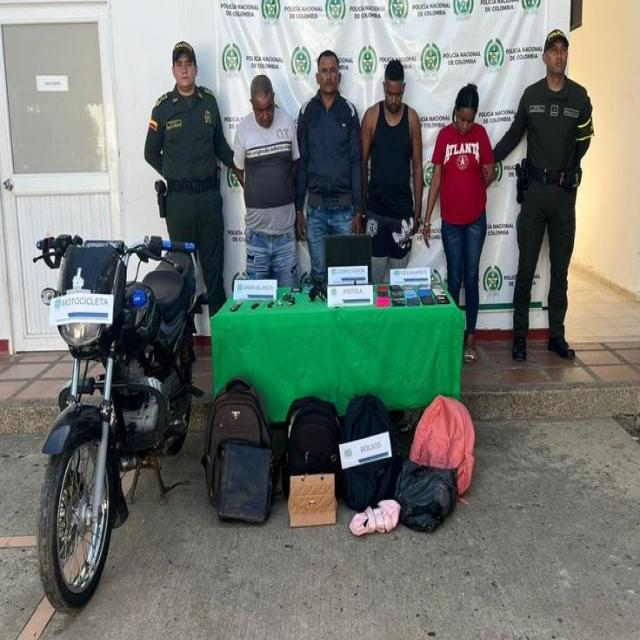9_cabeza_baja: (452, 82, 479, 135)
